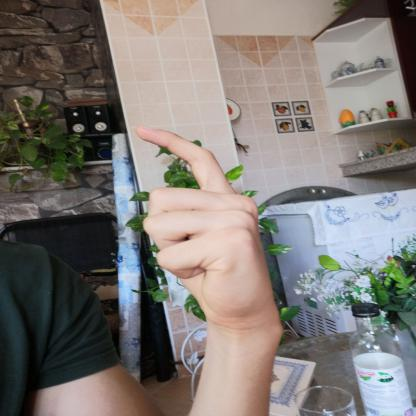RAA: (120, 118, 288, 340)
